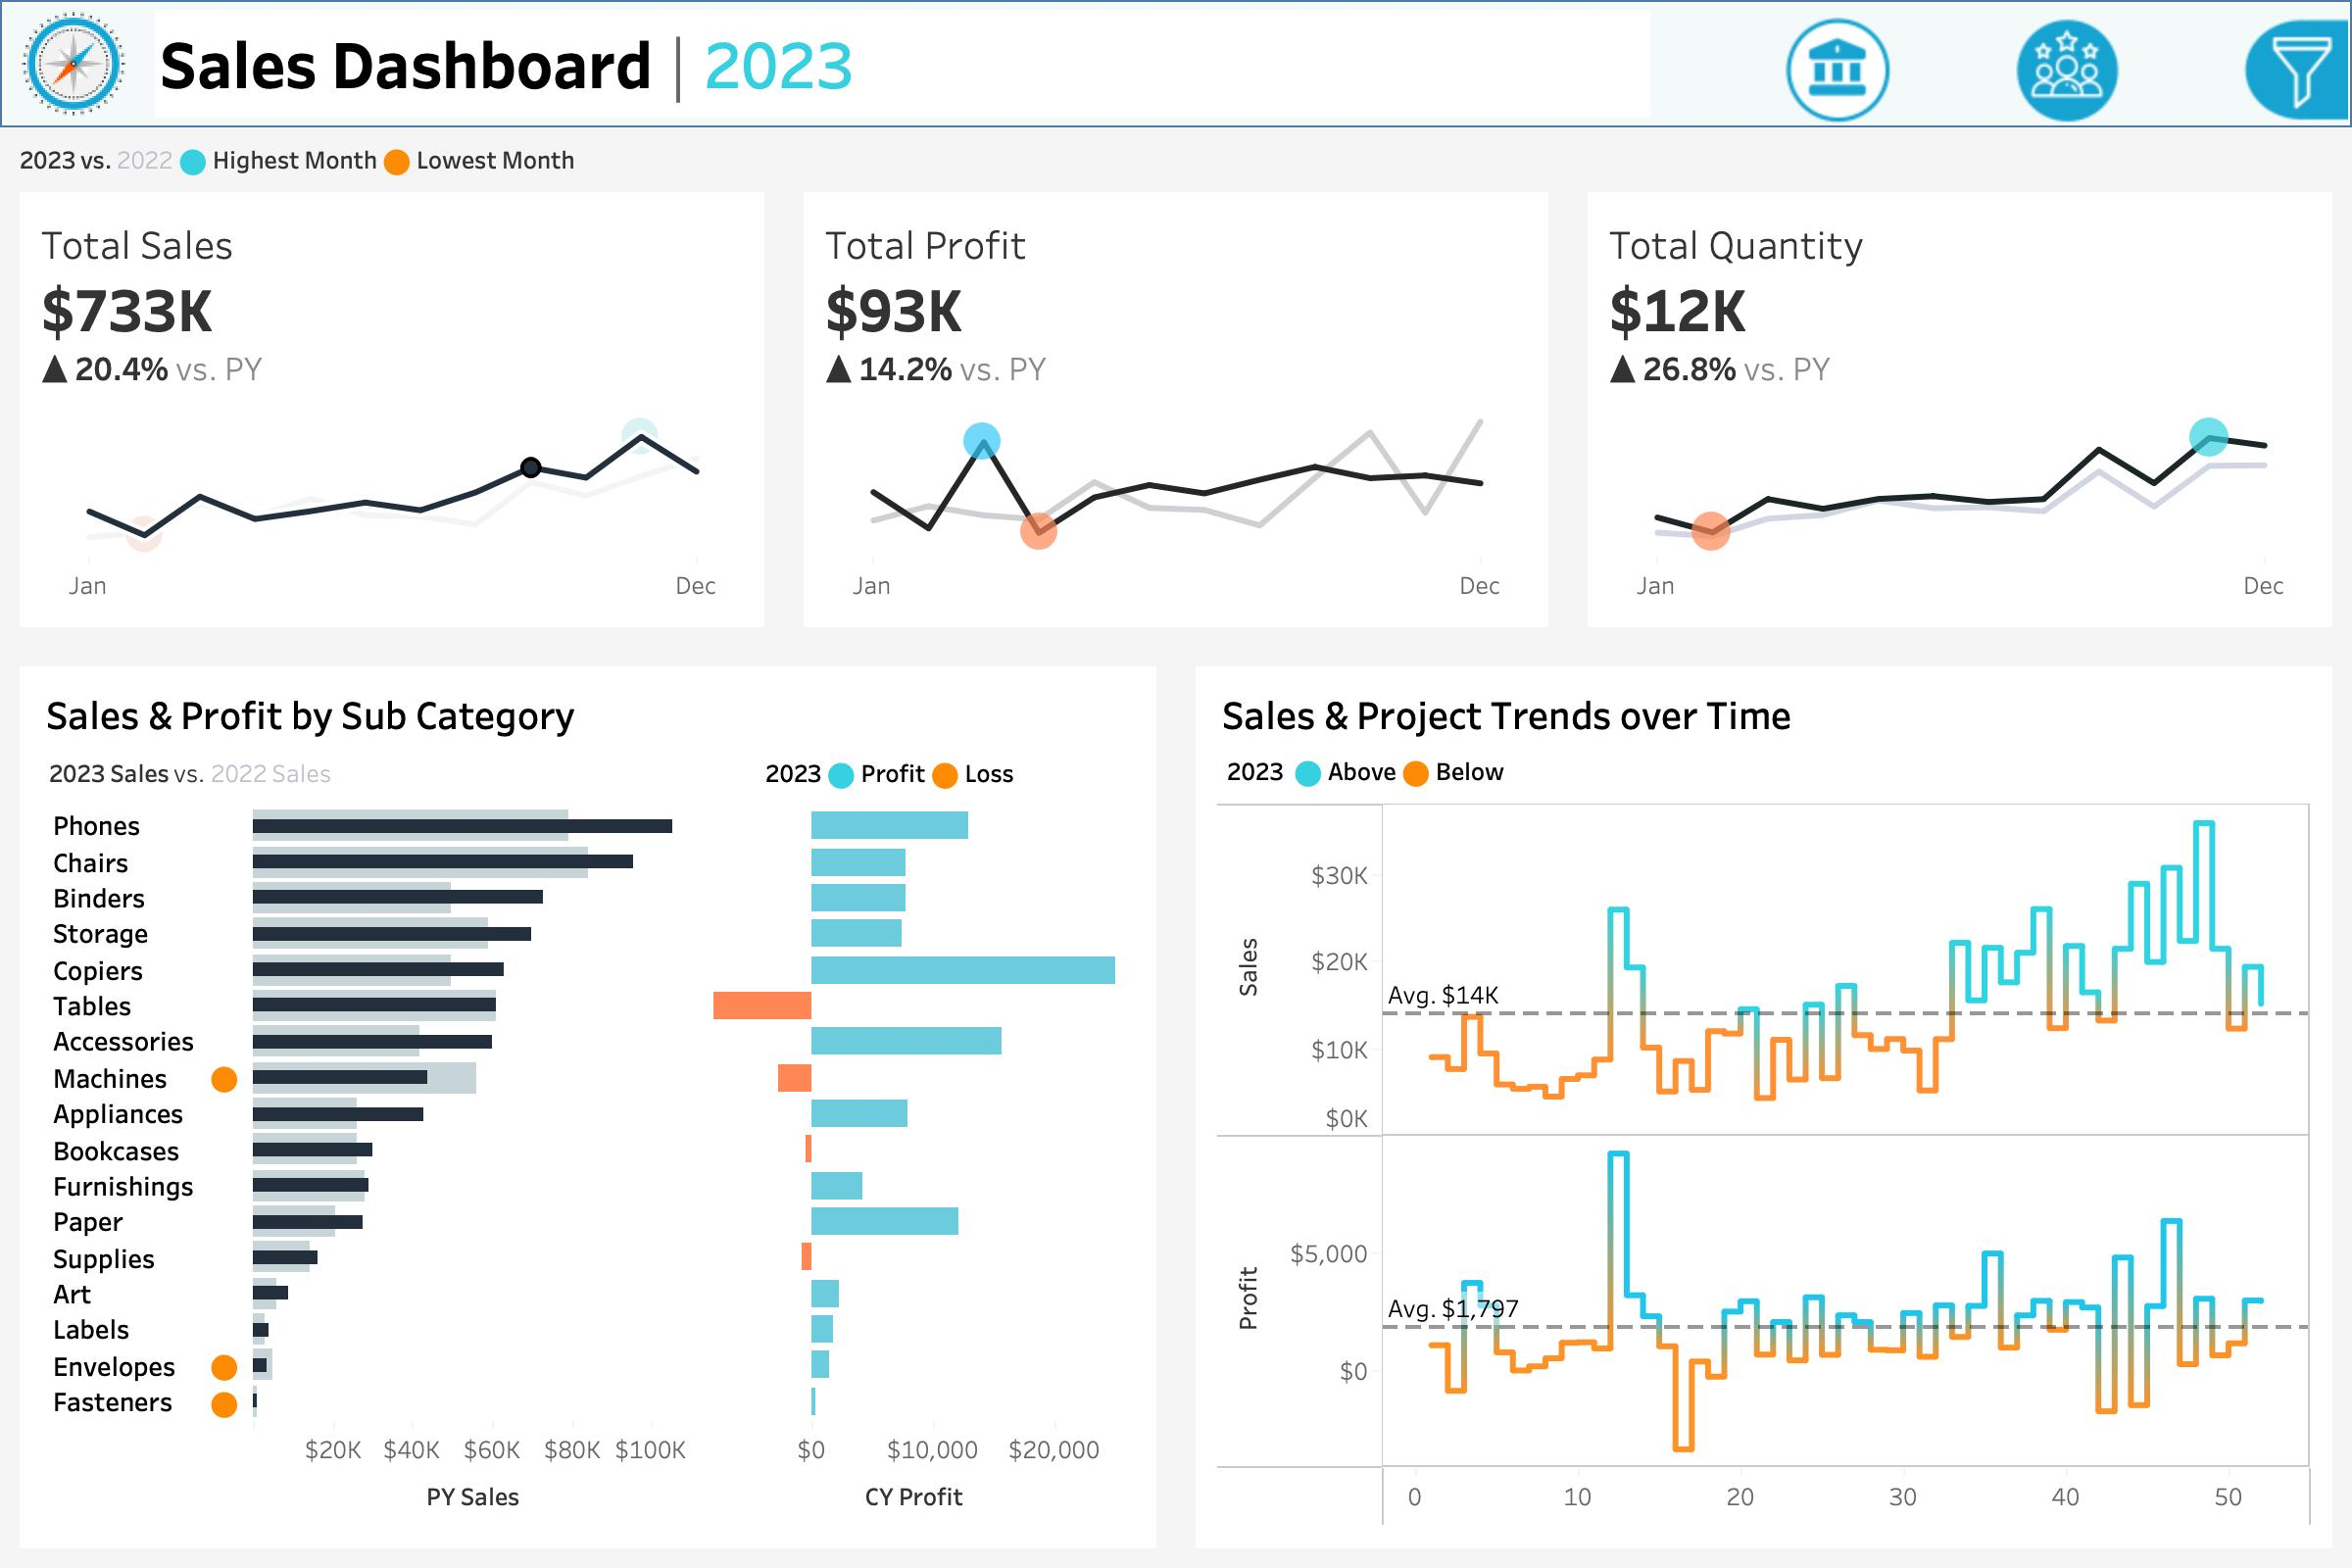

This screenshot's page, from the dashboard's own definition file:
{"tool":"tableau","page":{"name":"Sales Dashboard","canvas":[1200,800],"ordinal":1},"visuals":[{"type":"image","param":"/Users/sparshmarwah21/Documents/My Tableau dashboards/Sales & Customer dashboard","box":[1,1,74,63]},{"type":"text","box":[75,1,771,63]},{"type":"dashboard-object","box":[880,5,117,62]},{"type":"dashboard-object","box":[997,5,116,62]},{"type":"blank","box":[907,10,281,66]},{"type":"worksheet","title":"Legend KPI","mark":"Automatic","box":[0,65,1200,33]},{"type":"text","box":[907,76,281,69]},{"type":"worksheet","title":"KPI Sales","mark":"Automatic","rows":["Calculation_1775473826986909700"],"cols":["Order Date"],"box":[0,98,400,232]},{"type":"worksheet","title":"KPI Profit","mark":"Automatic","rows":["Min/Max Sales (copy)_1775473827287851022"],"cols":["Order Date"],"box":[400,98,400,232]},{"type":"worksheet","title":"KPI Quantity","mark":"Automatic","rows":["Min/Max Profit (copy)_1775473827304263701"],"cols":["Order Date"],"box":[800,98,400,232]},{"type":"parameter","param":"[Parameters].[Parameter 1]","box":[907,145,281,52]},{"type":"blank","box":[907,197,281,54]},{"type":"text","box":[907,251,281,29]},{"type":"filter","title":"KPI Sales","param":"[federated.0rz1lq90ttah7l15bvdnm1mz3e39].[none:Category:nk]","box":[907,280,281,52]},{"type":"filter","title":"KPI Sales","param":"[federated.0rz1lq90ttah7l15bvdnm1mz3e39].[none:Sub-Category:nk]","box":[907,332,281,52]},{"type":"text","box":[17,347,566,34]},{"type":"text","box":[617,347,566,34]},{"type":"worksheet","title":"Legend Subcategory","mark":"Automatic","box":[17,381,367,27]},{"type":"text","box":[384,381,199,27]},{"type":"text","box":[617,381,566,25]},{"type":"text","box":[907,384,281,29]},{"type":"worksheet","title":"Weekly Trends","mark":"Automatic","rows":["Calculation_1775473826983149568","Calculation_1775473827285934089"],"cols":["Order Date"],"box":[617,406,566,377]},{"type":"worksheet","title":"Subcategory Comparision","mark":"Bar","rows":["Sub-Category","Calculation_1775473827309391896"],"cols":["CY Sales (copy)_1775473826983452673","Calculation_1775473826983149568","Calculation_1775473827285934089"],"box":[17,408,566,374.9]},{"type":"filter","title":"KPI Sales","param":"[federated.0rz1lq90ttah7l15bvdnm1mz3e39].[none:Region:nk]","box":[907,413,281,52]},{"type":"filter","title":"KPI Sales","param":"[federated.0rz1lq90ttah7l15bvdnm1mz3e39].[none:State:nk]","box":[907,465,281,52]},{"type":"filter","title":"KPI Sales","param":"[federated.0rz1lq90ttah7l15bvdnm1mz3e39].[none:City:nk]","box":[907,517,281,52]}]}

Visuals, with their boxes in screenshot pixels (x1, y1, x2, y2), scaled from the page's 1200x800 canvas onto the 2352x1568 screenshot:
image: x1=2 y1=2 x2=147 y2=125
text: x1=147 y1=2 x2=1658 y2=125
dashboard-object: x1=1725 y1=10 x2=1954 y2=131
dashboard-object: x1=1954 y1=10 x2=2181 y2=131
blank: x1=1778 y1=20 x2=2328 y2=149
"Legend KPI" worksheet: x1=0 y1=127 x2=2351 y2=192
text: x1=1778 y1=149 x2=2328 y2=284
"KPI Sales" worksheet: x1=0 y1=192 x2=784 y2=647
"KPI Profit" worksheet: x1=784 y1=192 x2=1568 y2=647
"KPI Quantity" worksheet: x1=1568 y1=192 x2=2351 y2=647
parameter: x1=1778 y1=284 x2=2328 y2=386
blank: x1=1778 y1=386 x2=2328 y2=492
text: x1=1778 y1=492 x2=2328 y2=549
"KPI Sales" filter: x1=1778 y1=549 x2=2328 y2=651
"KPI Sales" filter: x1=1778 y1=651 x2=2328 y2=753
text: x1=33 y1=680 x2=1143 y2=747
text: x1=1209 y1=680 x2=2319 y2=747
"Legend Subcategory" worksheet: x1=33 y1=747 x2=753 y2=800
text: x1=753 y1=747 x2=1143 y2=800
text: x1=1209 y1=747 x2=2319 y2=796
text: x1=1778 y1=753 x2=2328 y2=809
"Weekly Trends" worksheet: x1=1209 y1=796 x2=2319 y2=1535
"Subcategory Comparision" worksheet (Bar marks): x1=33 y1=800 x2=1143 y2=1535
"KPI Sales" filter: x1=1778 y1=809 x2=2328 y2=911
"KPI Sales" filter: x1=1778 y1=911 x2=2328 y2=1013
"KPI Sales" filter: x1=1778 y1=1013 x2=2328 y2=1115
